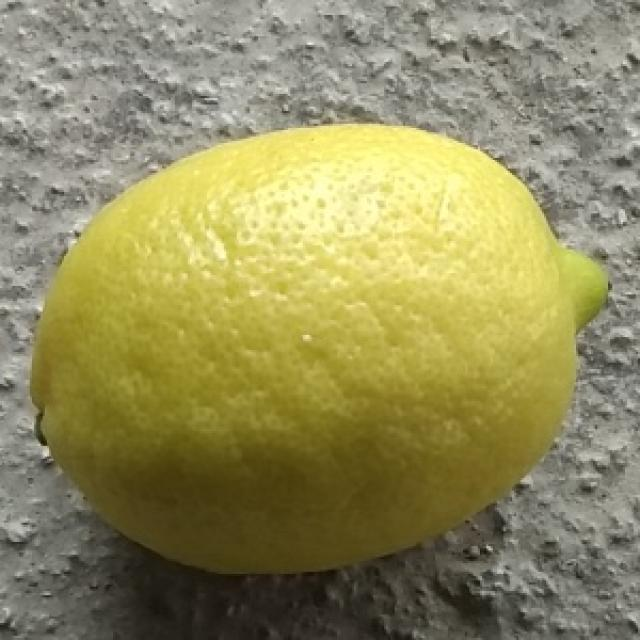Lemon: (27, 119, 610, 578)
